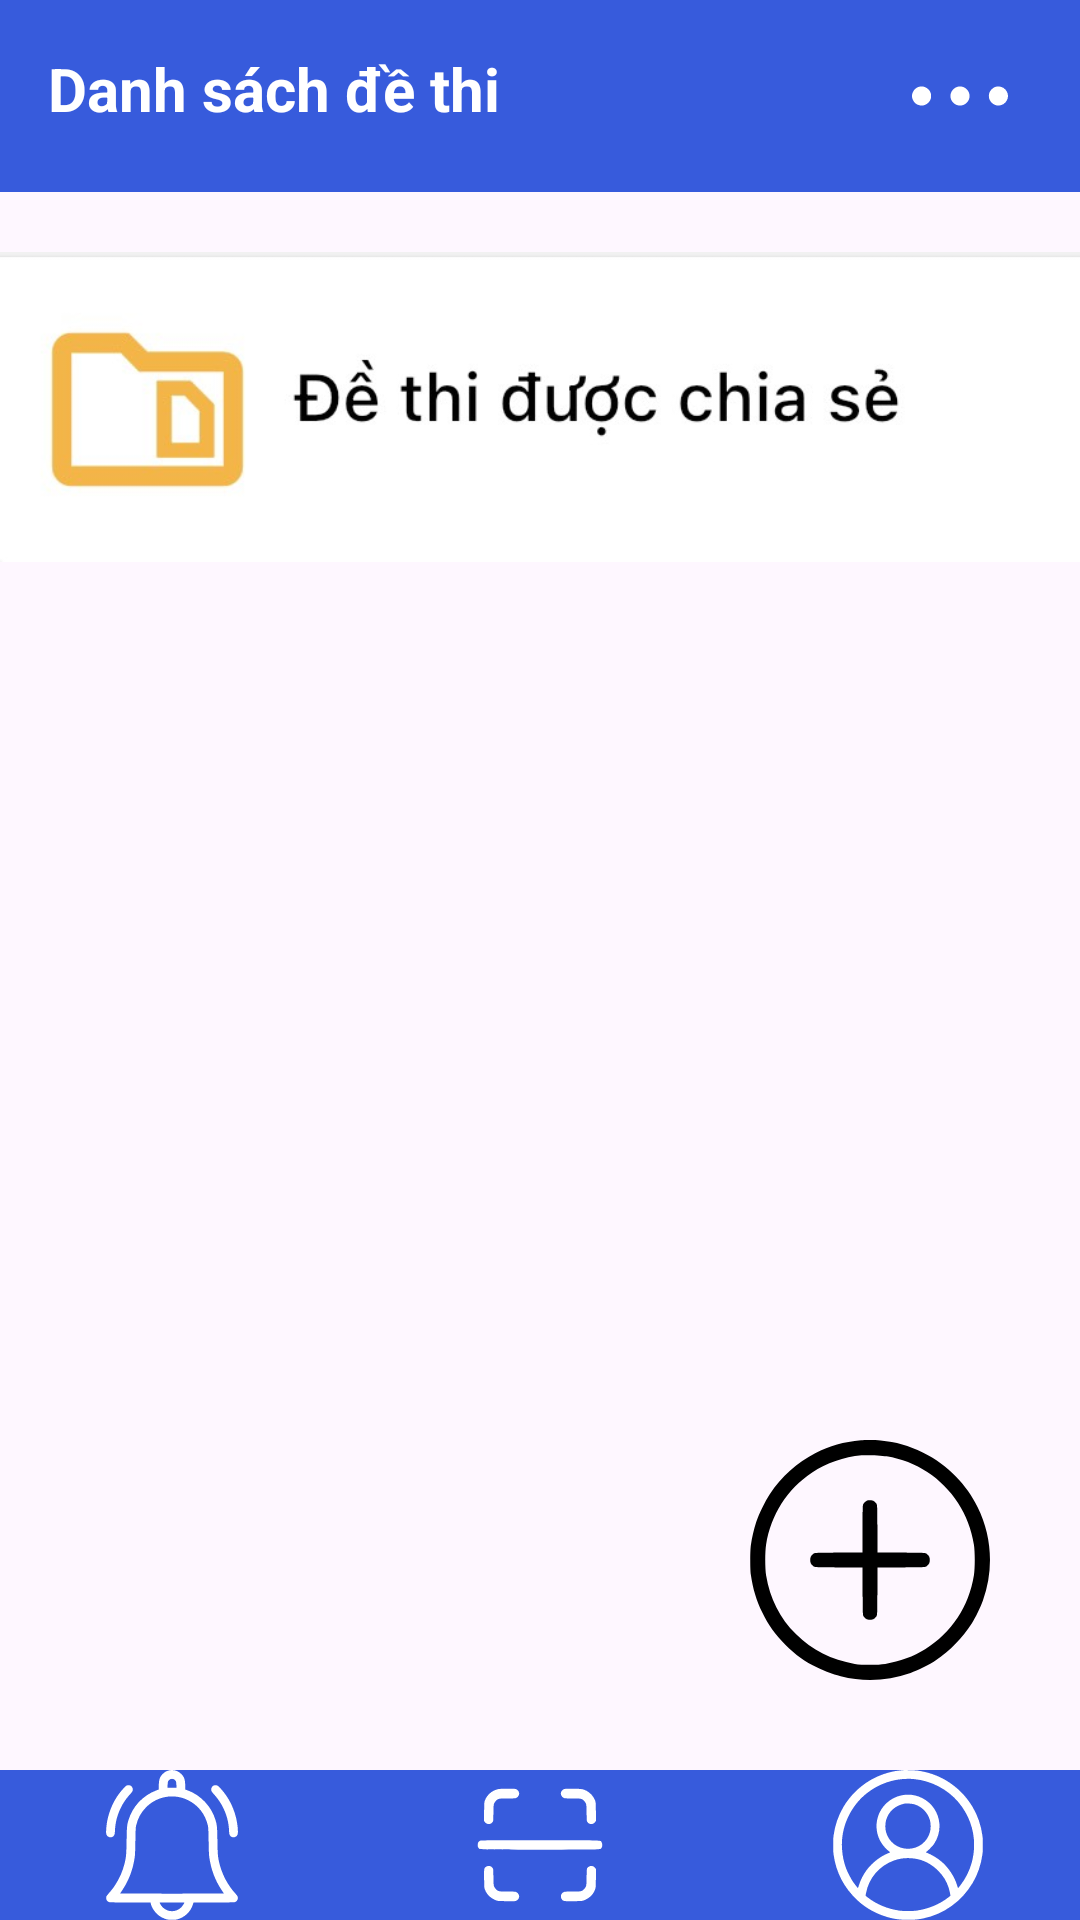

Locate icon controls on the screen. Image size 1080px×1920px, boxes as (x1, y1, x2, y2).
more: (912, 86, 1008, 106)
notification: (106, 1770, 238, 1920)
plus: (750, 1440, 990, 1680)
scan: (477, 1788, 603, 1902)
user: (833, 1770, 983, 1920)
